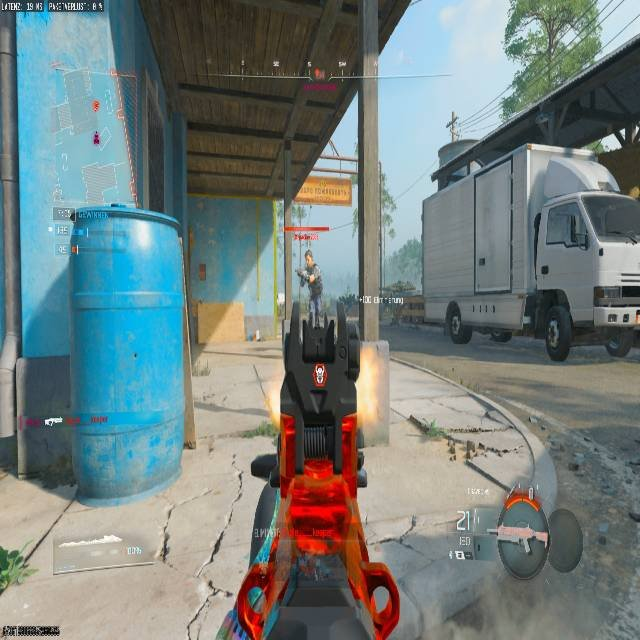head: (304, 250, 313, 266)
player: (297, 252, 323, 321)
